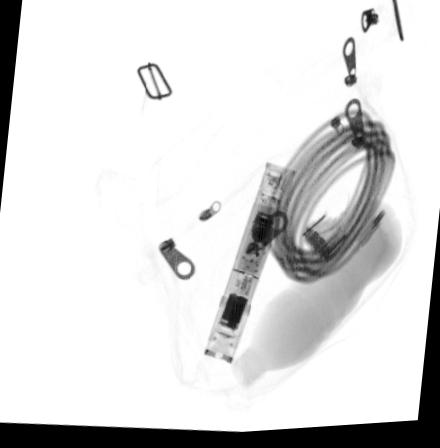Baton: (203, 162, 299, 368)
